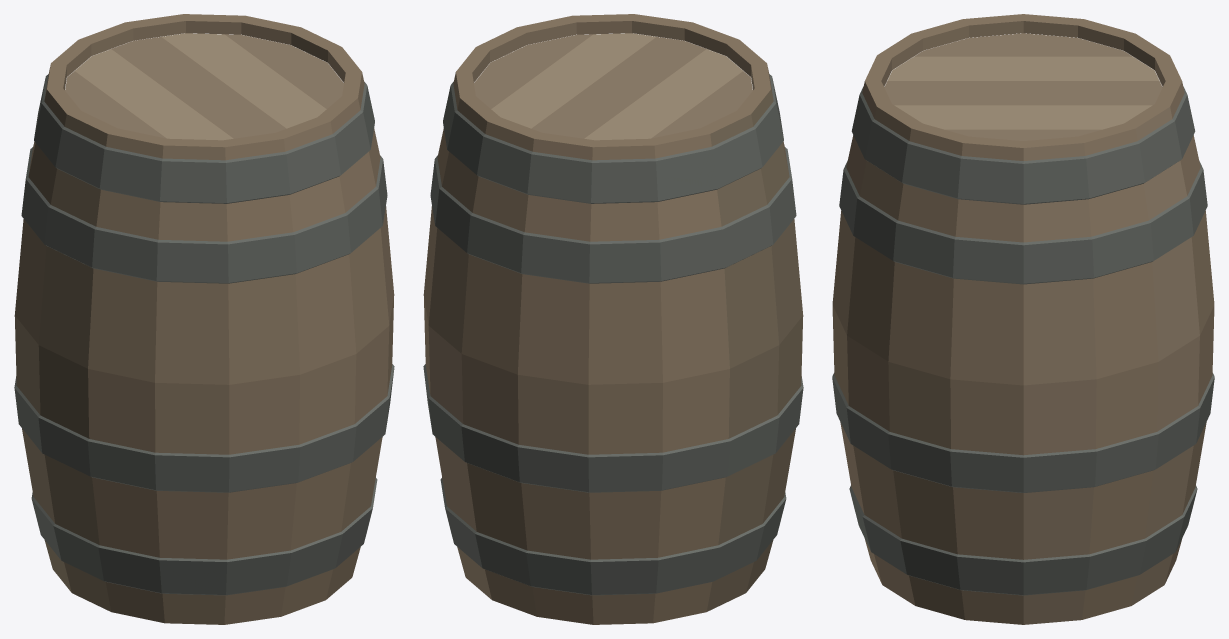
Rendered from env_barrel_v03_wide_hoops.glb.
3 views of the same model, side by side, from view 1: azimuth 30°, elevation 25°; view 2: azimuth 150°, elevation 25°; view 3: azimuth 270°, elevation 25° (orthographic).
Visible parts, largest first — view 1: material_0, material_3, material_2, material_5, material_4; view 2: material_0, material_3, material_2, material_5, material_4; view 3: material_0, material_3, material_5, material_4.
Boxes of the visible parts, left/top/right/bottom form: material_0: left=29, top=14, right=394, bottom=624; material_3: left=14, top=74, right=394, bottom=595; material_2: left=14, top=90, right=111, bottom=611; material_5: left=65, top=34, right=343, bottom=138; material_4: left=75, top=33, right=326, bottom=140; material_0: left=423, top=14, right=788, bottom=624; material_3: left=423, top=74, right=803, bottom=595; material_2: left=706, top=90, right=803, bottom=611; material_5: left=428, top=34, right=752, bottom=599; material_4: left=491, top=33, right=742, bottom=140; material_0: left=832, top=14, right=1214, bottom=624; material_3: left=832, top=86, right=1214, bottom=595; material_5: left=884, top=33, right=1199, bottom=624; material_4: left=887, top=56, right=1159, bottom=129.
Size of the model in its own units: 0.6512 by 0.9 by 0.6512.
